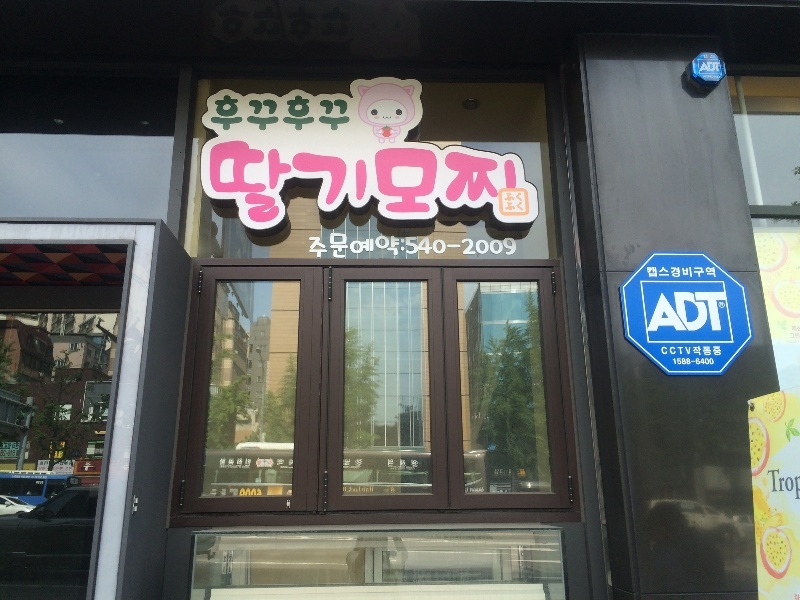text: (209, 139, 224, 233), (225, 139, 240, 233), (241, 139, 256, 233), (257, 139, 272, 233), (273, 139, 288, 233), (289, 139, 304, 233), (305, 139, 320, 233), (321, 139, 336, 233), (337, 139, 352, 233), (353, 139, 368, 233), (369, 139, 384, 233), (385, 139, 400, 233), (401, 139, 416, 233), (417, 139, 432, 233), (433, 139, 448, 233), (449, 139, 464, 233), (465, 139, 480, 233), (481, 139, 496, 233), (497, 139, 512, 233), (657, 293, 672, 332), (673, 293, 688, 332), (689, 293, 704, 332), (705, 293, 720, 332), (225, 96, 240, 132), (241, 96, 256, 132), (257, 96, 272, 132), (273, 96, 288, 132), (289, 96, 304, 132), (305, 96, 320, 132), (321, 96, 336, 132), (769, 470, 784, 503), (785, 470, 800, 503), (337, 96, 350, 132), (645, 293, 656, 332), (213, 96, 224, 132), (513, 139, 517, 233), (321, 234, 336, 259), (337, 234, 352, 259), (353, 234, 368, 259), (369, 234, 384, 259), (385, 234, 400, 259), (307, 234, 320, 259), (417, 237, 432, 255), (433, 237, 448, 255), (449, 237, 464, 255), (465, 237, 480, 255), (481, 237, 496, 255), (497, 237, 512, 255), (721, 293, 727, 332), (51, 441, 64, 458), (405, 237, 416, 255), (657, 267, 672, 279), (673, 267, 688, 279), (689, 267, 704, 279), (673, 346, 688, 358), (689, 346, 704, 358), (705, 346, 720, 358), (705, 60, 720, 71), (659, 346, 672, 358), (401, 459, 416, 469), (705, 267, 717, 279), (228, 488, 240, 500), (225, 458, 240, 467), (497, 469, 512, 478), (353, 486, 368, 495), (83, 463, 96, 473), (257, 461, 273, 469), (1, 442, 16, 450), (241, 488, 256, 496), (388, 459, 400, 469), (646, 267, 656, 279), (673, 360, 688, 368), (689, 360, 704, 368), (211, 489, 224, 498), (465, 487, 480, 494), (401, 234, 405, 259), (1, 451, 16, 457), (241, 458, 251, 467), (343, 486, 352, 495), (353, 460, 363, 468), (705, 360, 715, 368), (277, 460, 288, 467), (49, 461, 64, 466), (49, 467, 64, 472), (513, 237, 517, 255), (790, 332, 800, 339), (766, 470, 768, 503), (344, 460, 352, 468), (792, 325, 800, 332), (35, 481, 48, 485), (705, 54, 715, 59), (39, 461, 48, 466), (39, 467, 48, 472), (369, 486, 374, 495), (17, 476, 32, 479), (33, 476, 47, 479), (65, 461, 73, 466), (65, 467, 73, 472), (257, 488, 262, 496), (220, 458, 224, 467), (97, 449, 104, 454), (17, 442, 21, 450), (289, 460, 293, 467), (481, 487, 485, 494), (705, 76, 719, 78), (221, 489, 224, 498), (702, 60, 704, 71), (417, 459, 419, 469), (494, 469, 496, 478), (225, 489, 227, 498), (721, 302, 724, 308), (65, 441, 66, 458), (11, 476, 16, 479), (89, 484, 96, 486), (17, 451, 19, 457), (721, 346, 722, 358), (721, 60, 722, 71), (702, 54, 704, 59), (97, 484, 100, 486), (95, 449, 96, 454), (703, 76, 704, 78)
